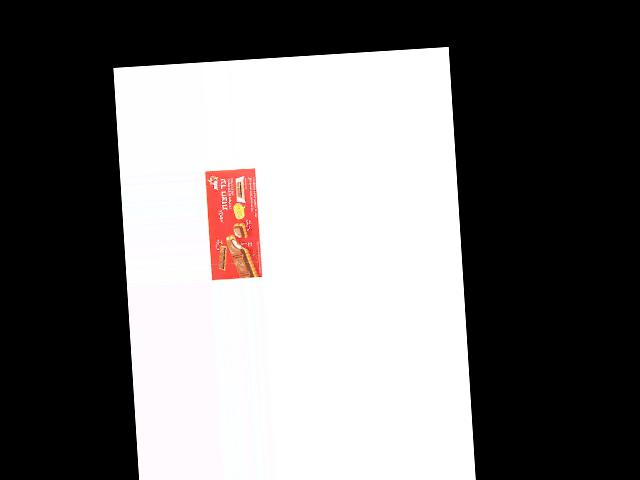chocolate: (204, 166, 262, 280)
